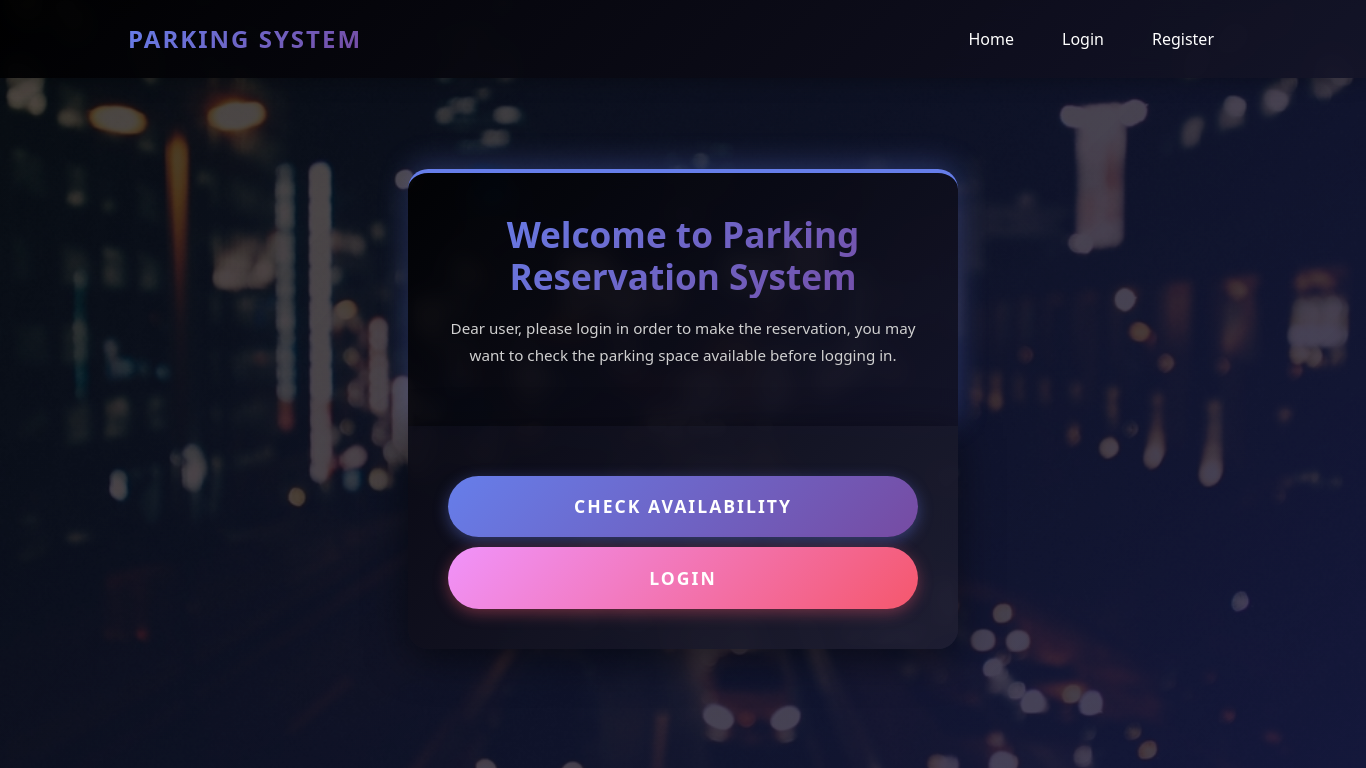
Test: Home › should close modal when clicking backdrop
Click the button "Check Availability": click(683, 507) [448,476,918,537]
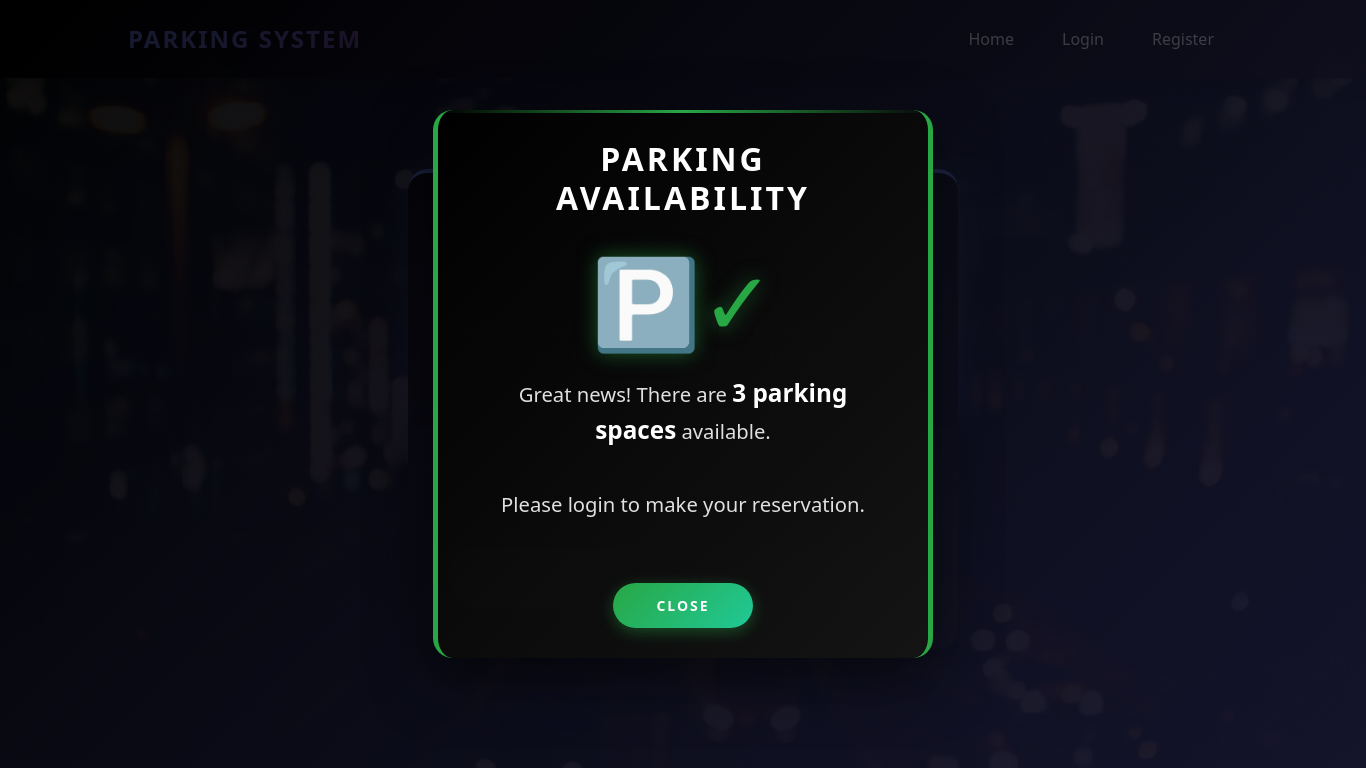
Result: the heading "Parking Availability" is shown at [556,137,810,219]
# Click the backdrop
Click the element with class "modern-alert-backdrop": click(82, 384) [0,0,1365,767]
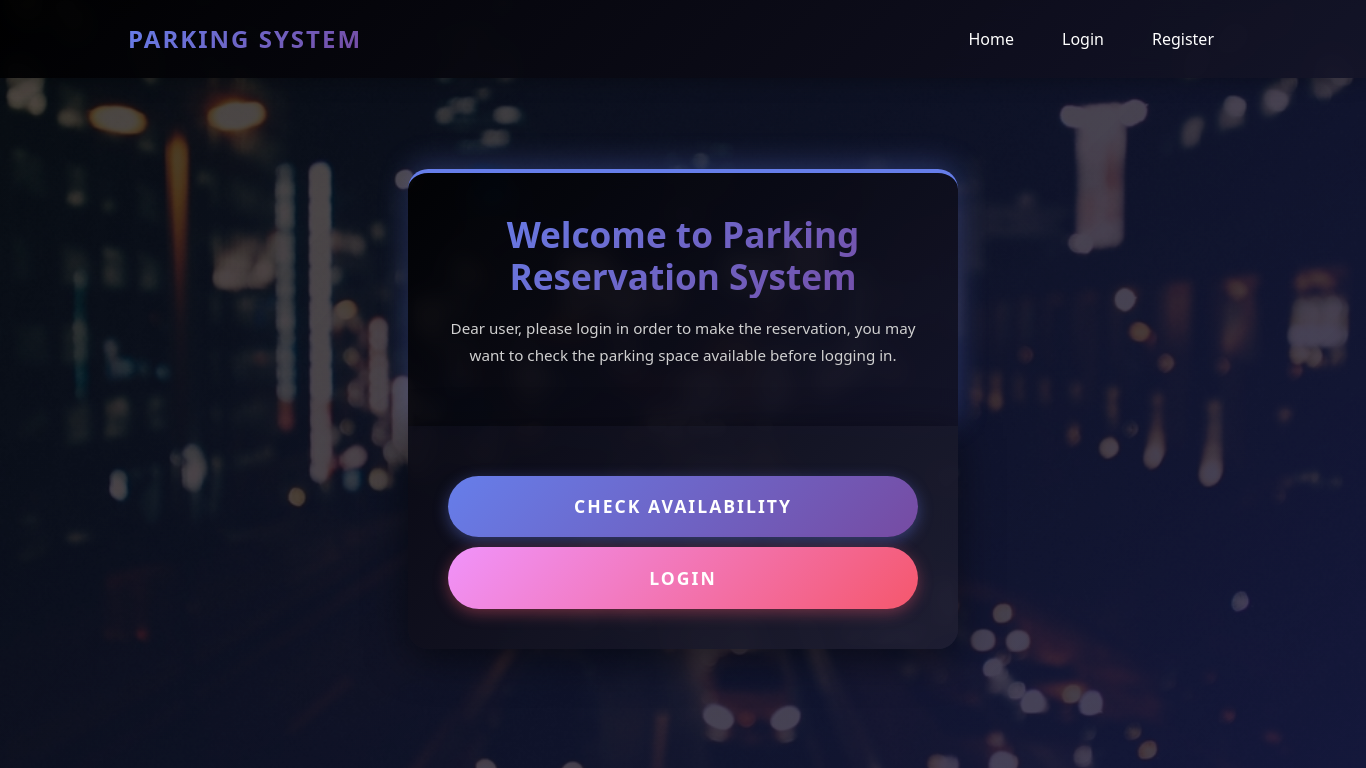
Result: the heading "Parking Availability" is gone
